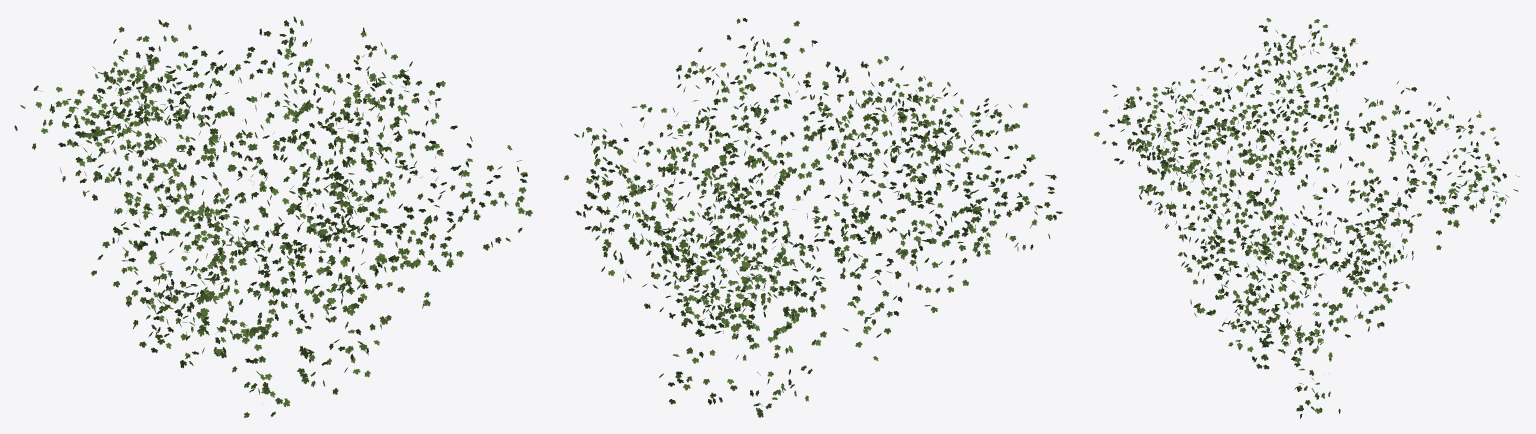
Rendered from MESH_EU01_AcerCampestre_M_LOD2.fbx.
The picture shows the model from 3 angles, left to right: view 1: azimuth 30°, elevation 25°; view 2: azimuth 150°, elevation 25°; view 3: azimuth 270°, elevation 25°; orthographic projection. The views are drawn at different scales.
Visible parts, largest first — view 1: MI_LOD2_001; view 2: MI_LOD2_001; view 3: MI_LOD2_001.
Boxes of the visible parts, left/top/right/bottom form: MI_LOD2_001: left=14, top=16, right=532, bottom=417; MI_LOD2_001: left=564, top=18, right=1062, bottom=417; MI_LOD2_001: left=1094, top=18, right=1519, bottom=418.
Size of what is drawn, in the model's own units: 491 by 403 by 476.
